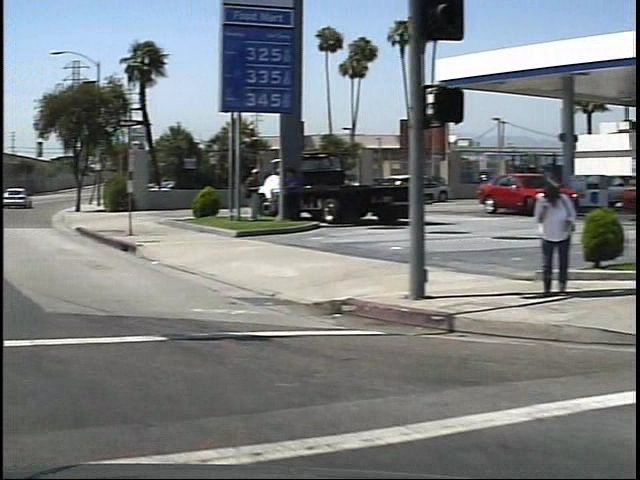person: (519, 178, 564, 300), (234, 168, 258, 228)
